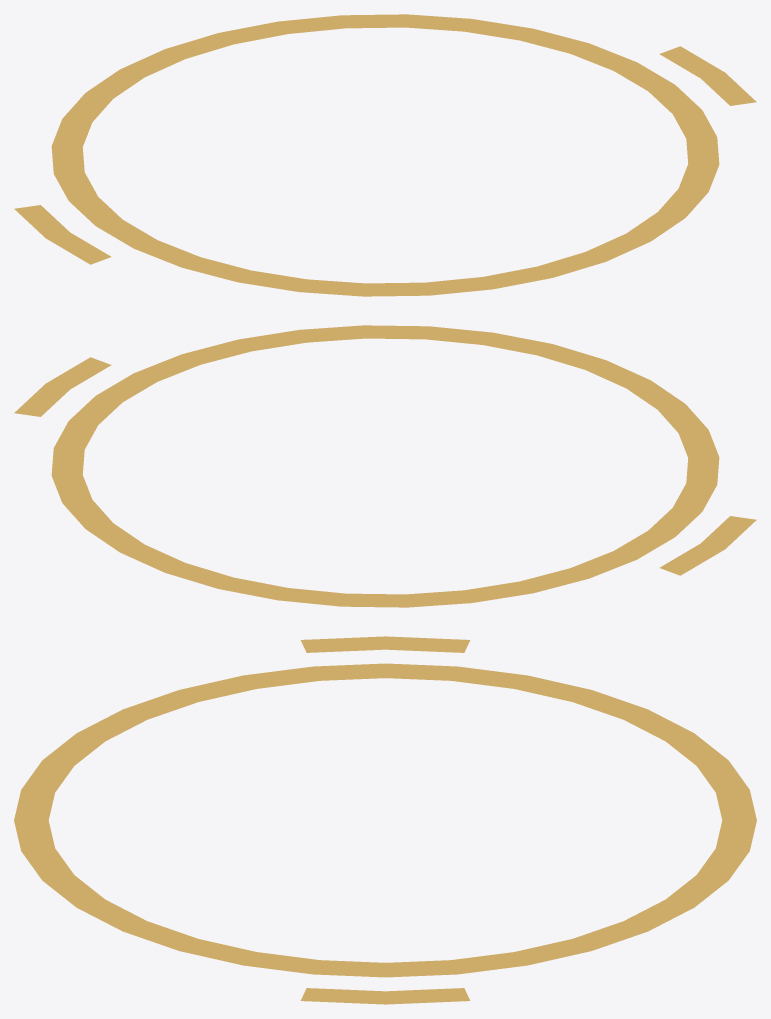
File: BowlingRing.glb
3 renders of one model, top to bottom at view 1: azimuth 30°, elevation 25°; view 2: azimuth 150°, elevation 25°; view 3: azimuth 270°, elevation 25°, orthographic. The views are drawn at different scales.
Parts seen in each view (by area): view 1: Ring; view 2: Ring; view 3: Ring.
Boxes of the visible parts, x1,y1,x2,y2 form: Ring: [14, 14, 756, 296]; Ring: [14, 325, 756, 607]; Ring: [14, 636, 756, 1004].
Size of the model in its own units: 2.59 by 0 by 2.21.
